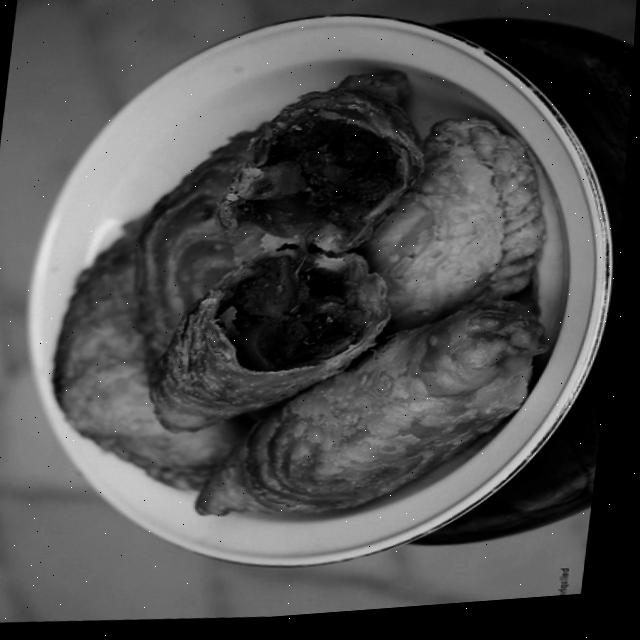炸货点心: (9, 2, 611, 604)
